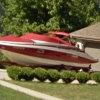Boat: (0, 21, 97, 80)
